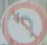Don't turn left: (3, 1, 43, 44)
